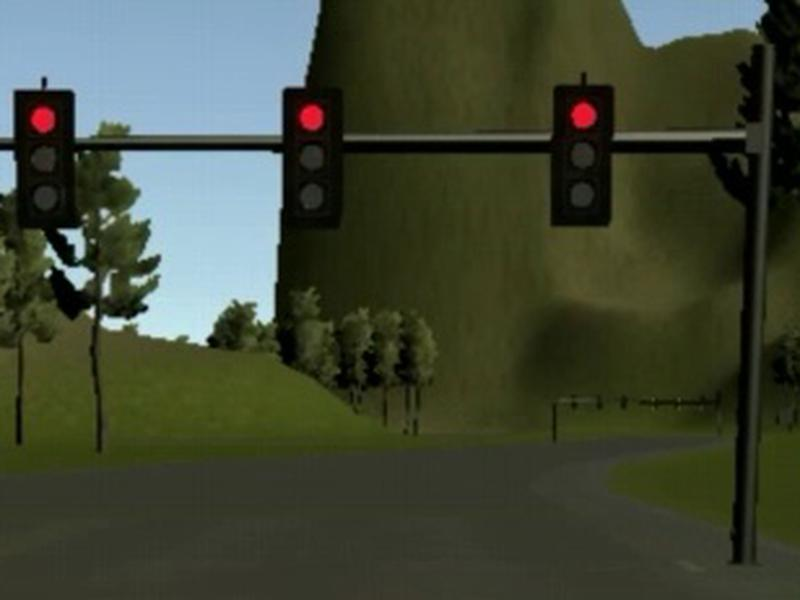Red: (15, 90, 77, 228), (283, 88, 342, 229), (553, 86, 612, 225)
